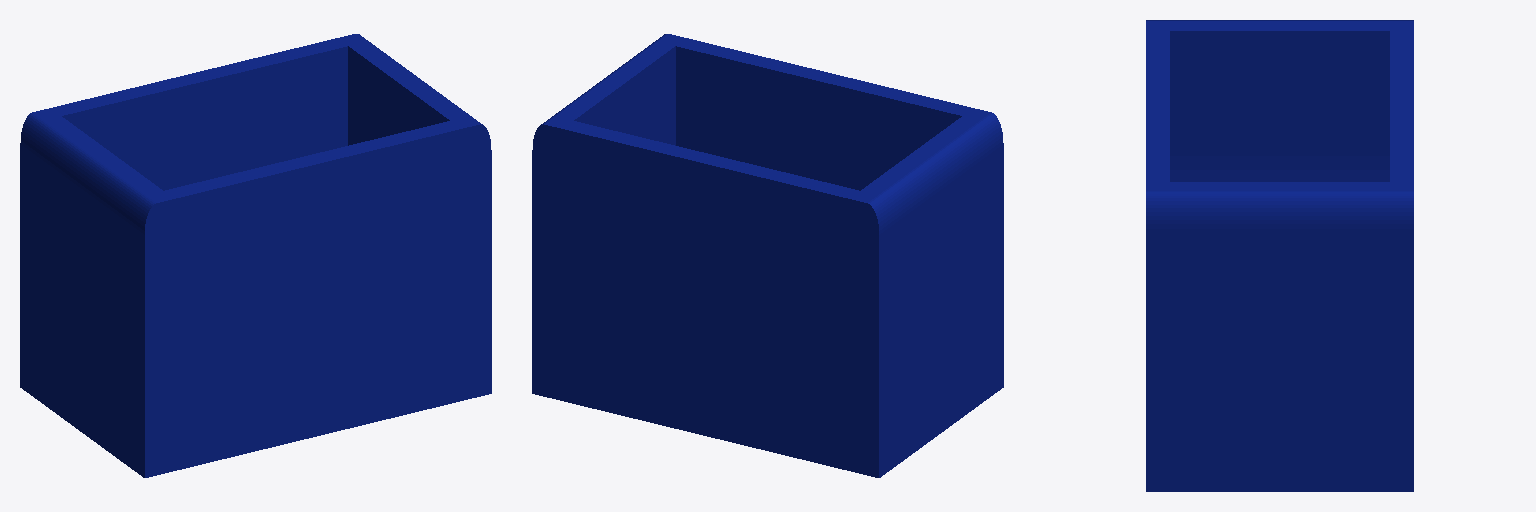
robot.urdf — block:
<robot name="block">
  <link name="block_base_link">
    <contact>
      <lateral_friction value="0.2"/>
      <rolling_friction value="0.001"/>
      <contact_cfm value="0.0"/>
      <contact_erp value="1.0"/>
    </contact>
    <inertial>
      <origin rpy="0 0 0" xyz="0 0 0"/>
      <mass value="0.05"/>
      <inertia ixx="0" ixy="0" ixz="0" iyy="0" iyz="0" izz="0"/>
    </inertial>
    <visual>
      <origin rpy="0 0 0" xyz="0 0 0"/>
      <geometry>
        <mesh filename="2.obj" scale="1 1 1"/>
      </geometry>
      <material name="tray_material">
        <color rgba="0.1 0.2 0.6 1"/>
      </material>
    </visual>
    <collision>
      <origin rpy="0 0 0" xyz="0 0 0"/>
      <geometry>
        <mesh filename="2.obj" scale="1 1 1"/>
      </geometry>
    </collision>
  </link>
</robot>

--- Facts derived from the render (not from the file) ---
The picture shows the robot from 3 angles, left to right: view 1: azimuth 30°, elevation 25°; view 2: azimuth 150°, elevation 25°; view 3: azimuth 270°, elevation 25°; orthographic projection.
Robot: block — 1 links, 0 joints (none); root link block_base_link; default pose: every joint at zero.
Links seen in each view (by area): view 1: block_base_link; view 2: block_base_link; view 3: block_base_link.
Link boxes in pixels (x1,y1,x2,y2): block_base_link: (20,34,491,477); block_base_link: (532,34,1003,477); block_base_link: (1146,20,1413,491).
Bounding box of the posed robot: 0.0533 × 0.0331 × 0.04 m (x, y, z).
Meshes: 1 distinct files referenced, 1 mesh visuals loaded (1 OBJ).